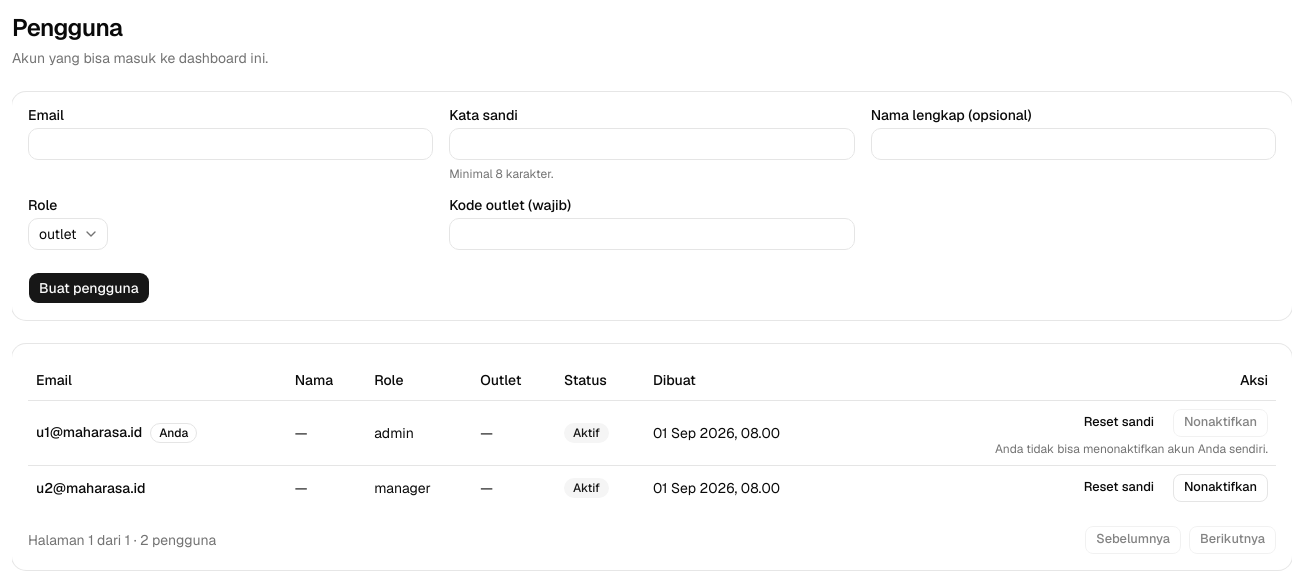
Test: UsersView — buat pengguna (6.8, 6.16) › memetakan 422 dari backend ke field yang bersangkutan
Type "ada@maharasa.id" into the field labelled "Email" at (231, 144), box left=28, top=128, right=433, bottom=160
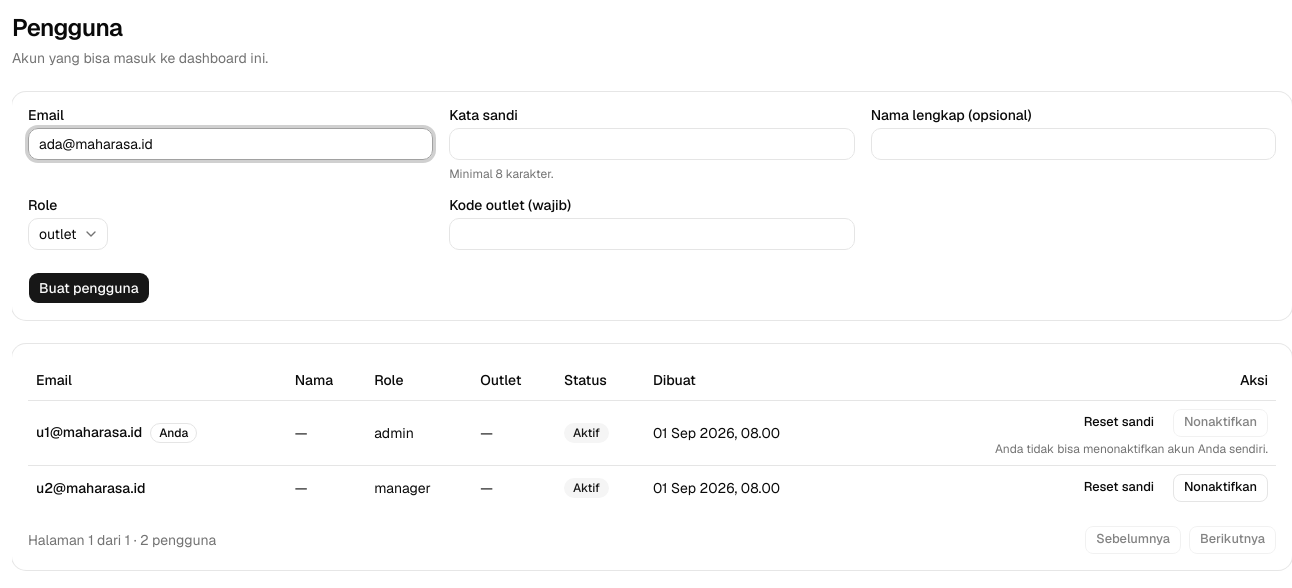
Type "rahasia123" into the password field labelled "Kata sandi" at (652, 144), box left=449, top=128, right=855, bottom=160
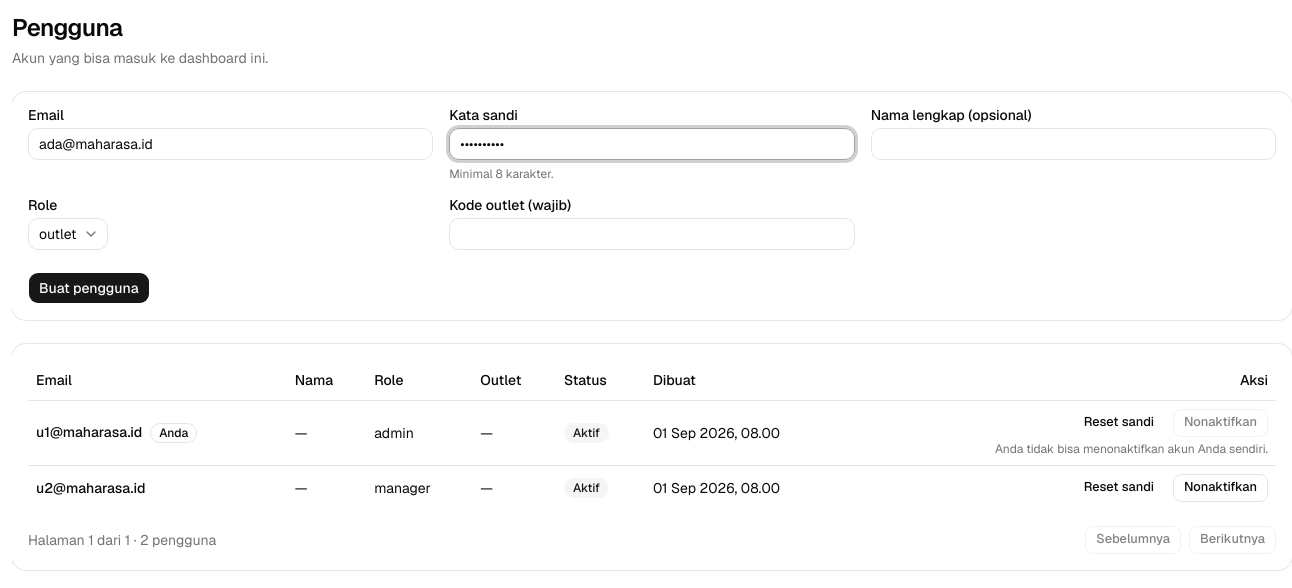
Type "OUT1" into the field labelled "Kode outlet (wajib)" at (652, 234), box left=449, top=218, right=855, bottom=250
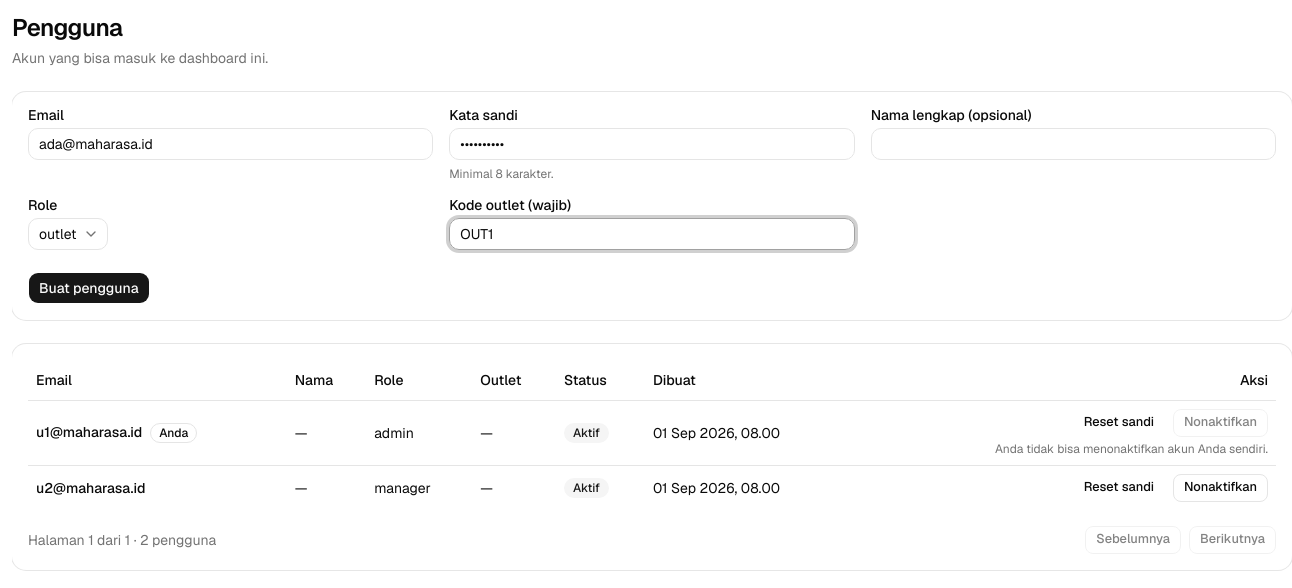
Click the button "Buat pengguna" at (89, 288), box left=28, top=272, right=150, bottom=304
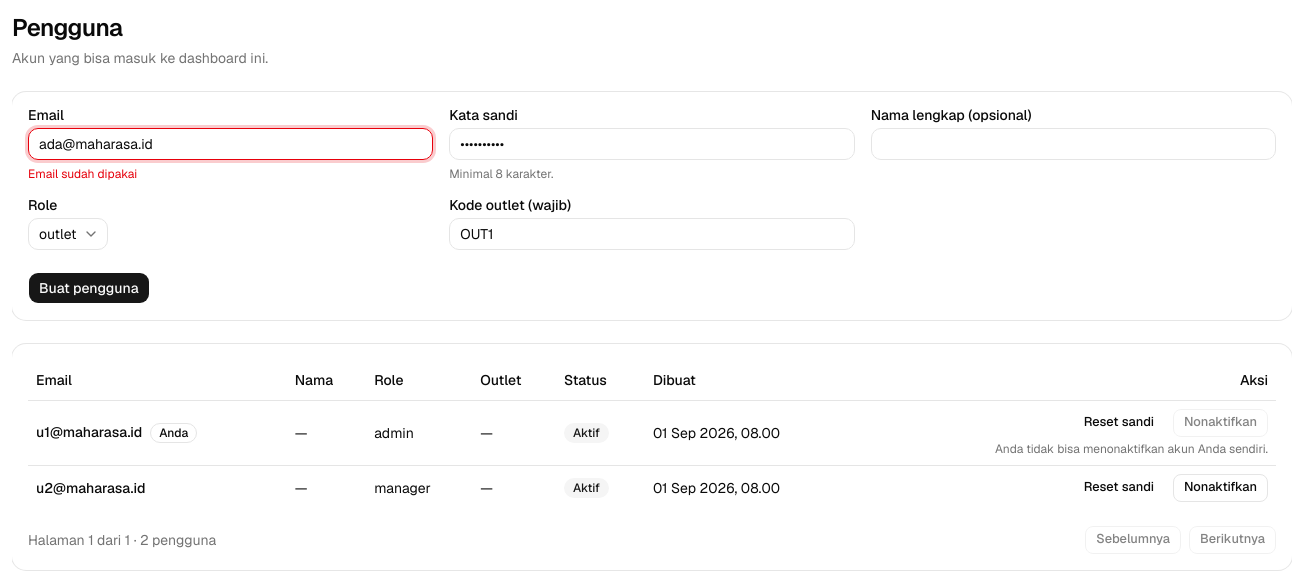
Expected: the text "Email sudah dipakai" is shown, left=28, top=166, right=137, bottom=182
